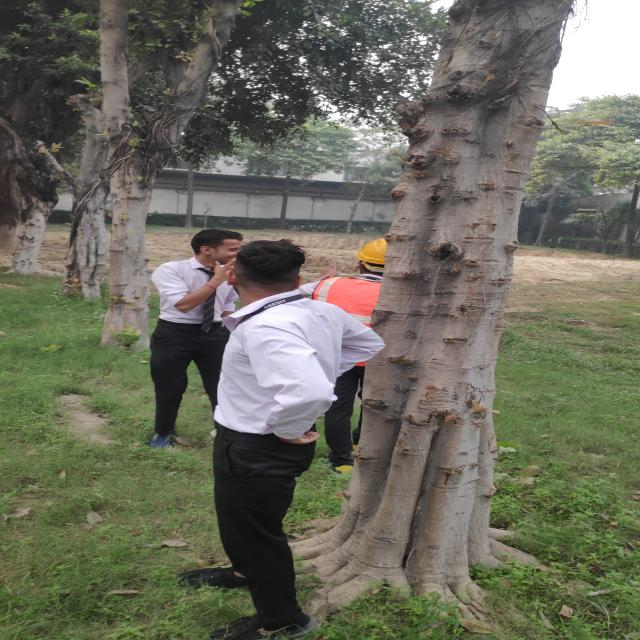safe: (312, 240, 388, 473)
unsafe: (212, 244, 346, 638), (138, 233, 235, 446)
